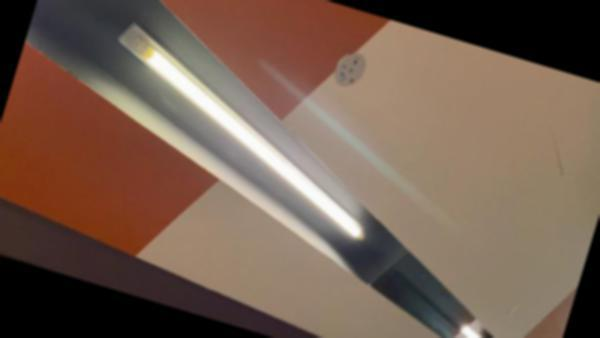light_on: (71, 7, 412, 251), (439, 303, 499, 338)
